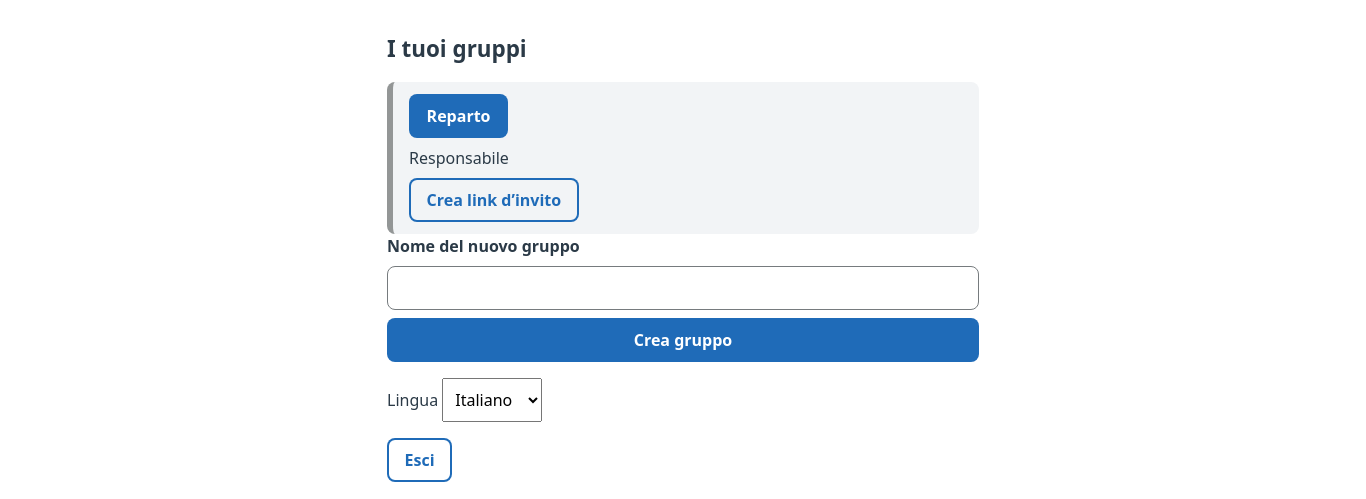
Test case: Cambia gruppo in the settings goes back to the list
Click the button "Reparto" at [459, 116], box [409, 94, 508, 138]
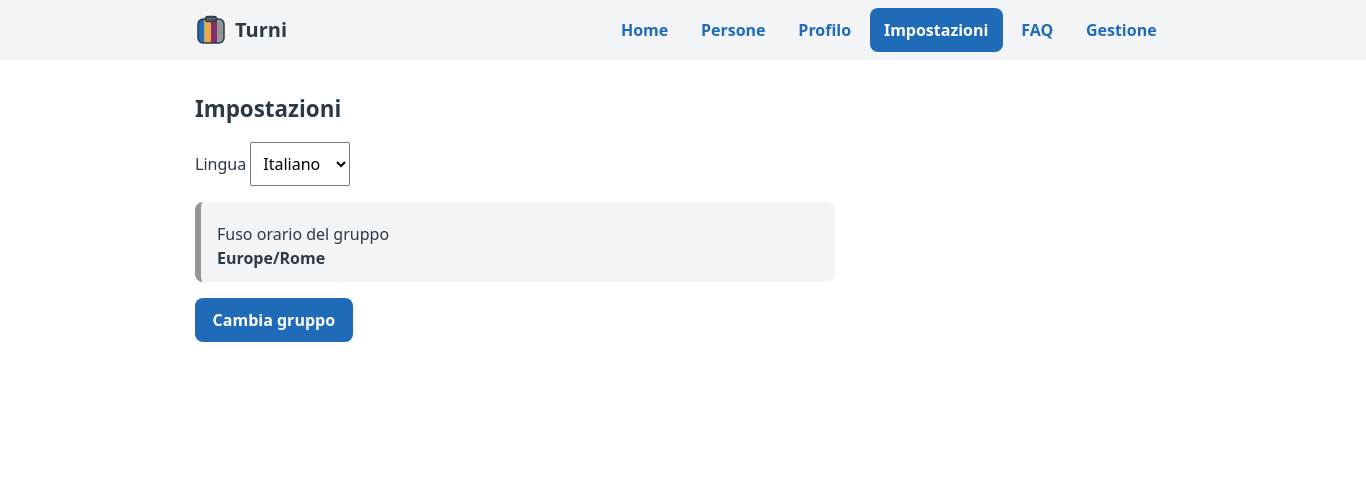
Expected: the heading "Impostazioni" is shown, [195, 93, 341, 124]
Click the button "Cambia gruppo" at [274, 320], box [195, 298, 353, 342]
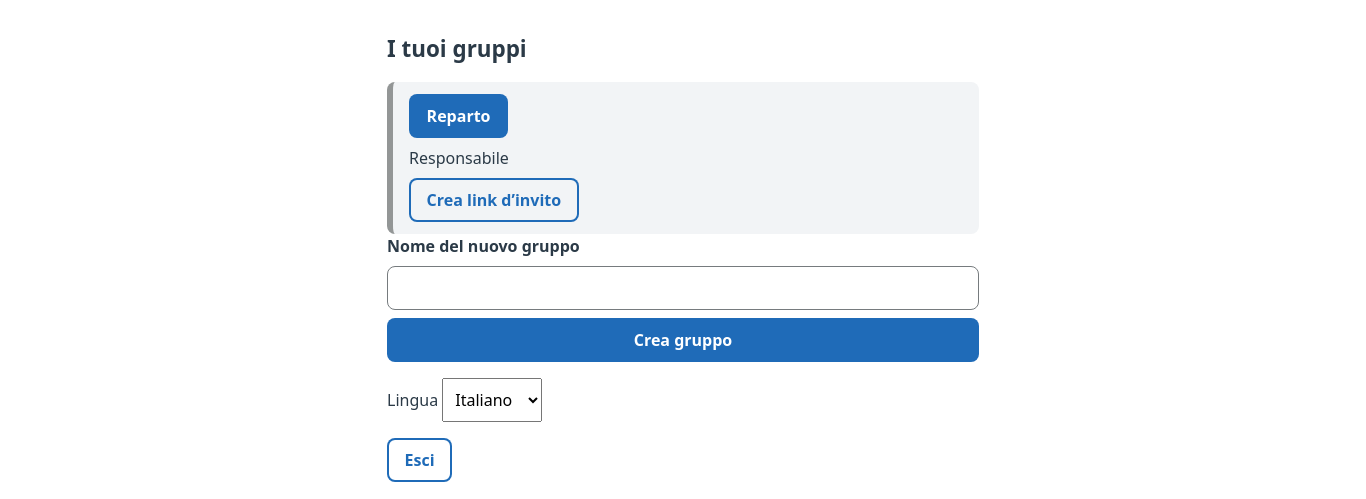
Expected: the heading "I tuoi gruppi" is shown, [387, 33, 527, 64]
